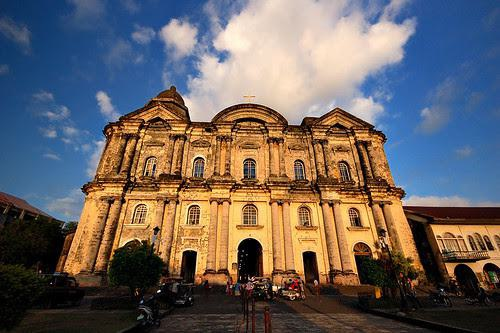taal_basilica_church_taal_batangas: (63, 75, 431, 299)
